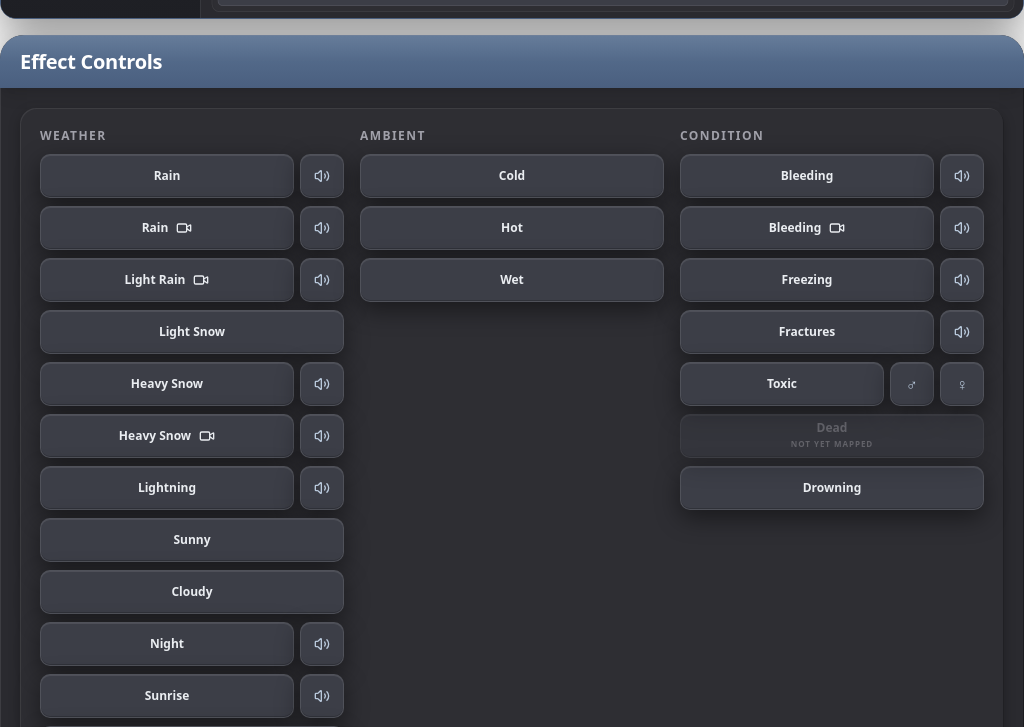
Scenario: ChatEffectsLayerPreview › switches the active Toxic cough voice without leaving the previous clip playing
(page scrolled)
What coordinates should you click on to do the following:
click the button "Toxic"
I would click on:
 (782, 384)
Its box is [680,362,884,406].
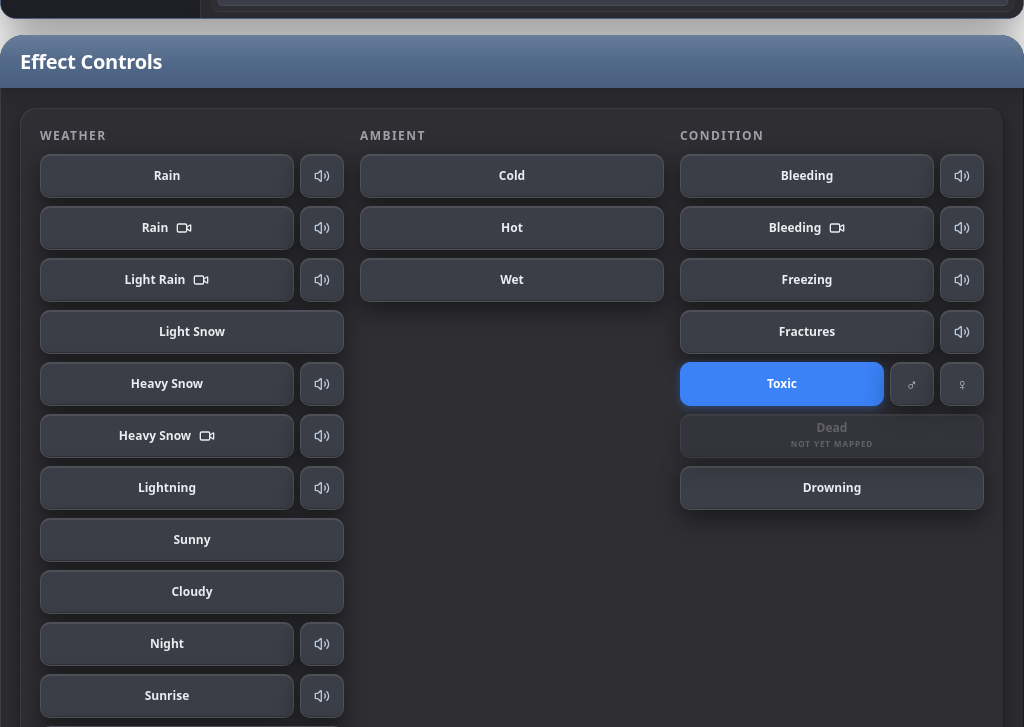
What coordinates should you click on to do the following:
click the button named "Select male cough for chat Toxic"
I would click on:
 (912, 384)
Its box is [890,362,934,406].
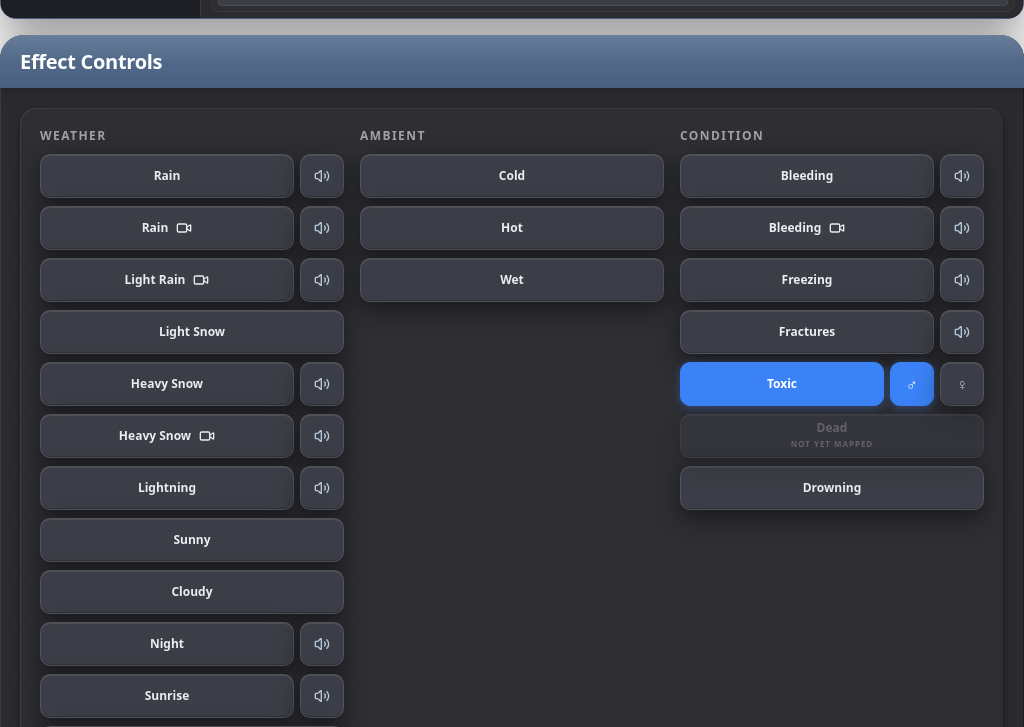
What coordinates should you click on to do the following:
click the button named "Select female cough for chat Toxic"
I would click on:
 (962, 384)
Its box is [940,362,984,406].
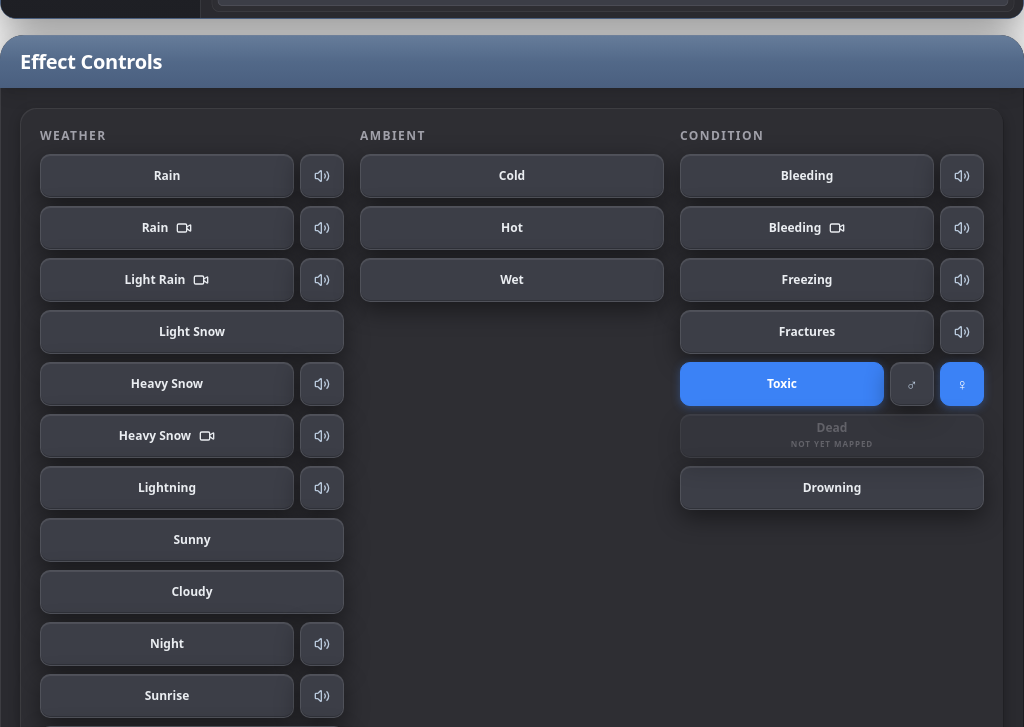
Check: the button named "Select male cough for chat Toxic" is not pressed, box [890,362,934,406]
Check: the button named "Select female cough for chat Toxic" is pressed, box [940,362,984,406]
